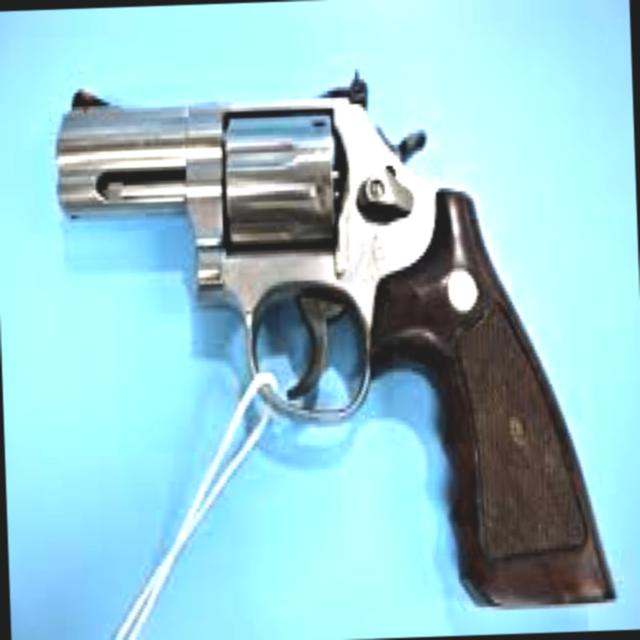semi automatic: (40, 52, 626, 636)
